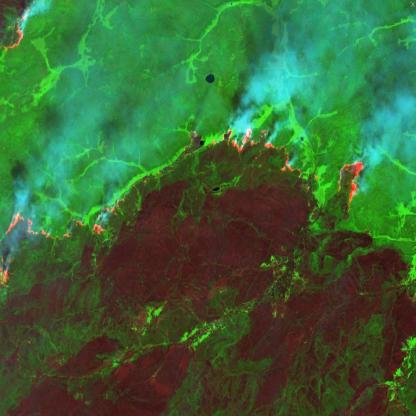fire: (182, 118, 370, 225), (0, 193, 131, 295), (0, 1, 38, 54)
